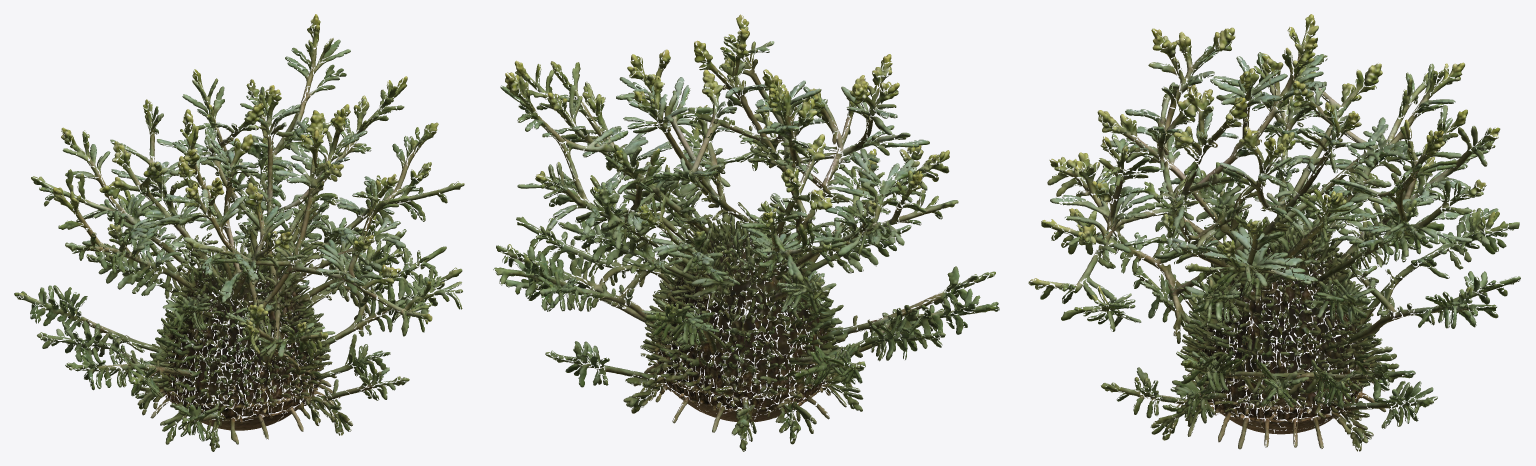
The model's file is ramram.glb.
The picture shows the model from 3 angles, left to right: view 1: azimuth 30°, elevation 25°; view 2: azimuth 150°, elevation 25°; view 3: azimuth 270°, elevation 25°; orthographic projection. The views are drawn at different scales.
Visible parts, largest first — view 1: tripo_node_46240cf4-54b1-443a-a4e7-8f041d759f40; view 2: tripo_node_46240cf4-54b1-443a-a4e7-8f041d759f40; view 3: tripo_node_46240cf4-54b1-443a-a4e7-8f041d759f40.
Boxes of the visible parts, x1,y1,x2,y2 form: tripo_node_46240cf4-54b1-443a-a4e7-8f041d759f40: [14, 14, 464, 451]; tripo_node_46240cf4-54b1-443a-a4e7-8f041d759f40: [493, 14, 999, 451]; tripo_node_46240cf4-54b1-443a-a4e7-8f041d759f40: [1028, 14, 1520, 451].
Bounding box in the file's own units: 0.9801 × 0.7339 × 0.8829.
1 material, 1 textured.
